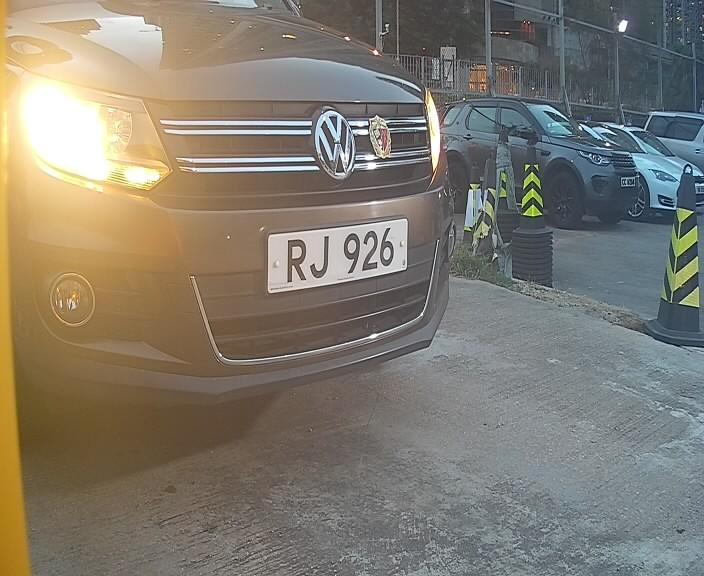License Plate: (258, 209, 419, 299)
